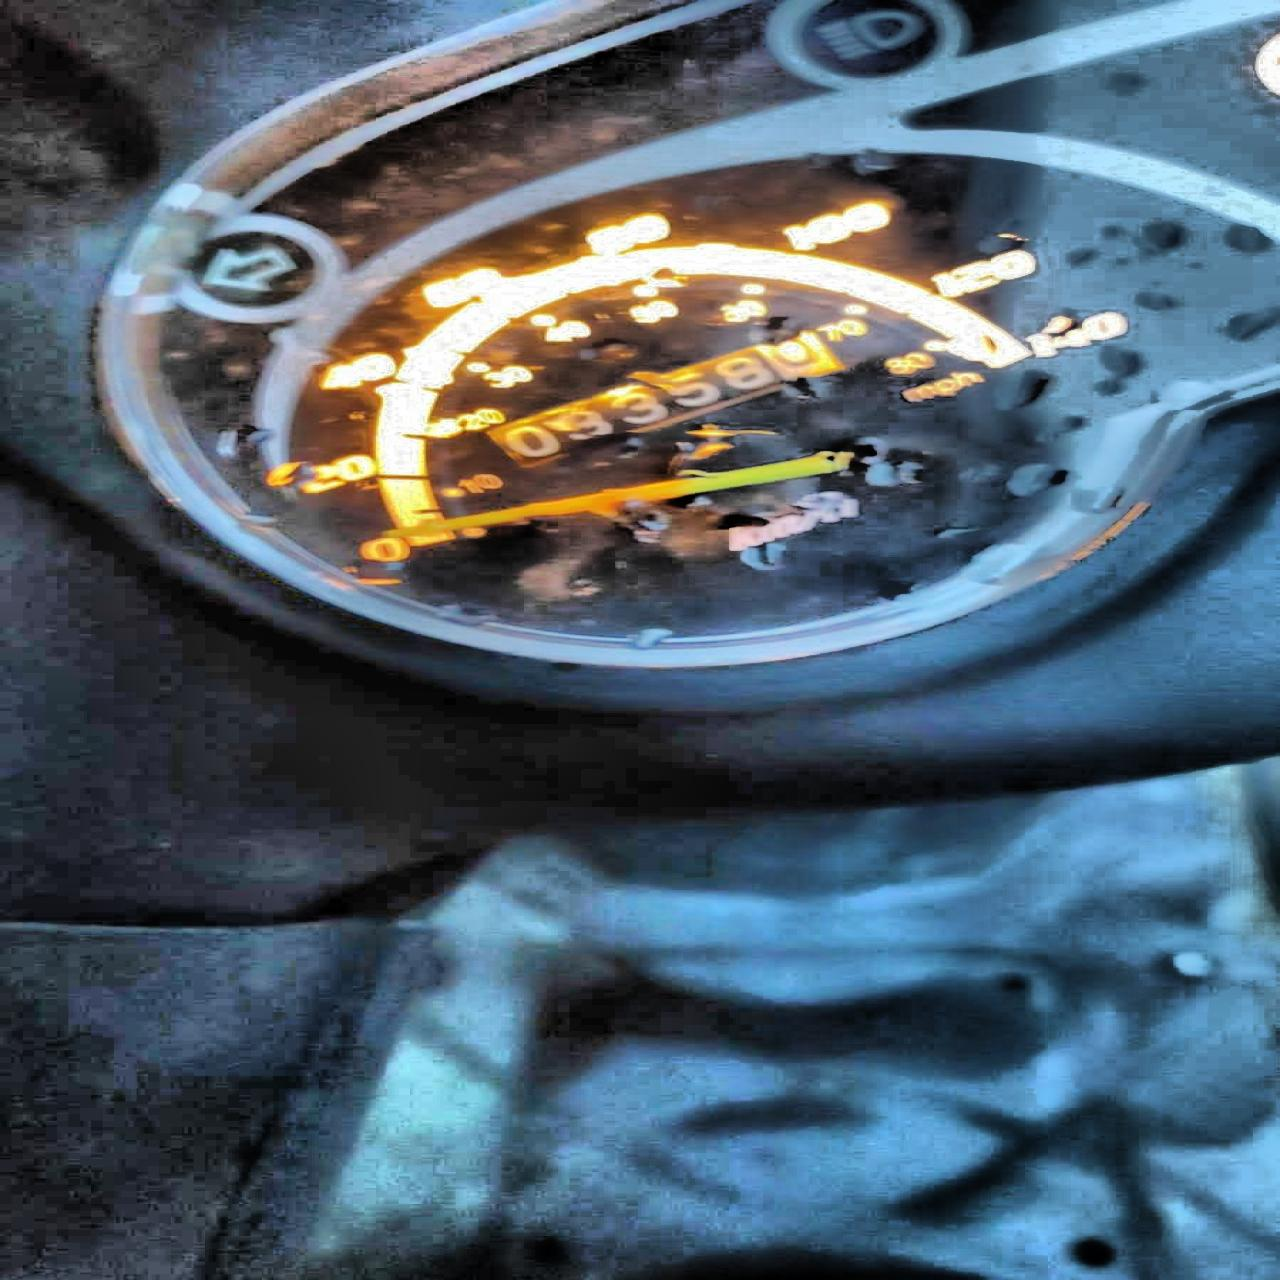0: (502, 425, 560, 461), (768, 335, 818, 369), (502, 363, 533, 381), (481, 406, 504, 423)
3: (604, 388, 670, 424), (483, 370, 517, 389)
5: (658, 368, 722, 407)
7: (816, 324, 842, 343)
8: (709, 356, 777, 388)
9: (546, 410, 613, 440)
odometer: (478, 327, 850, 471)
